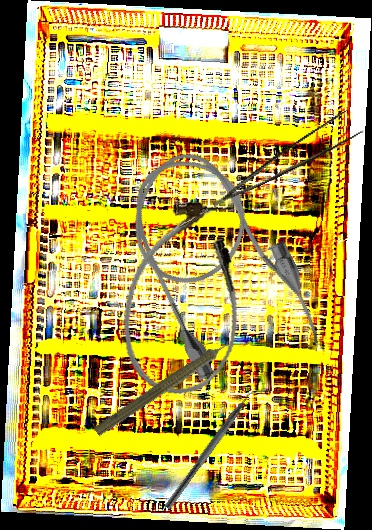Cannula: (106, 128, 331, 397), (110, 190, 261, 405)
Chopper: (164, 381, 266, 516)
Handpiece: (92, 329, 245, 443)
Tissue Forceps: (201, 106, 367, 208)
